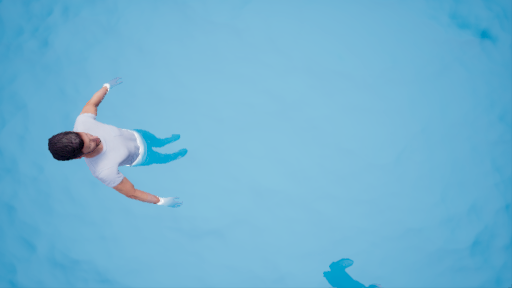person: (46, 79, 195, 208)
